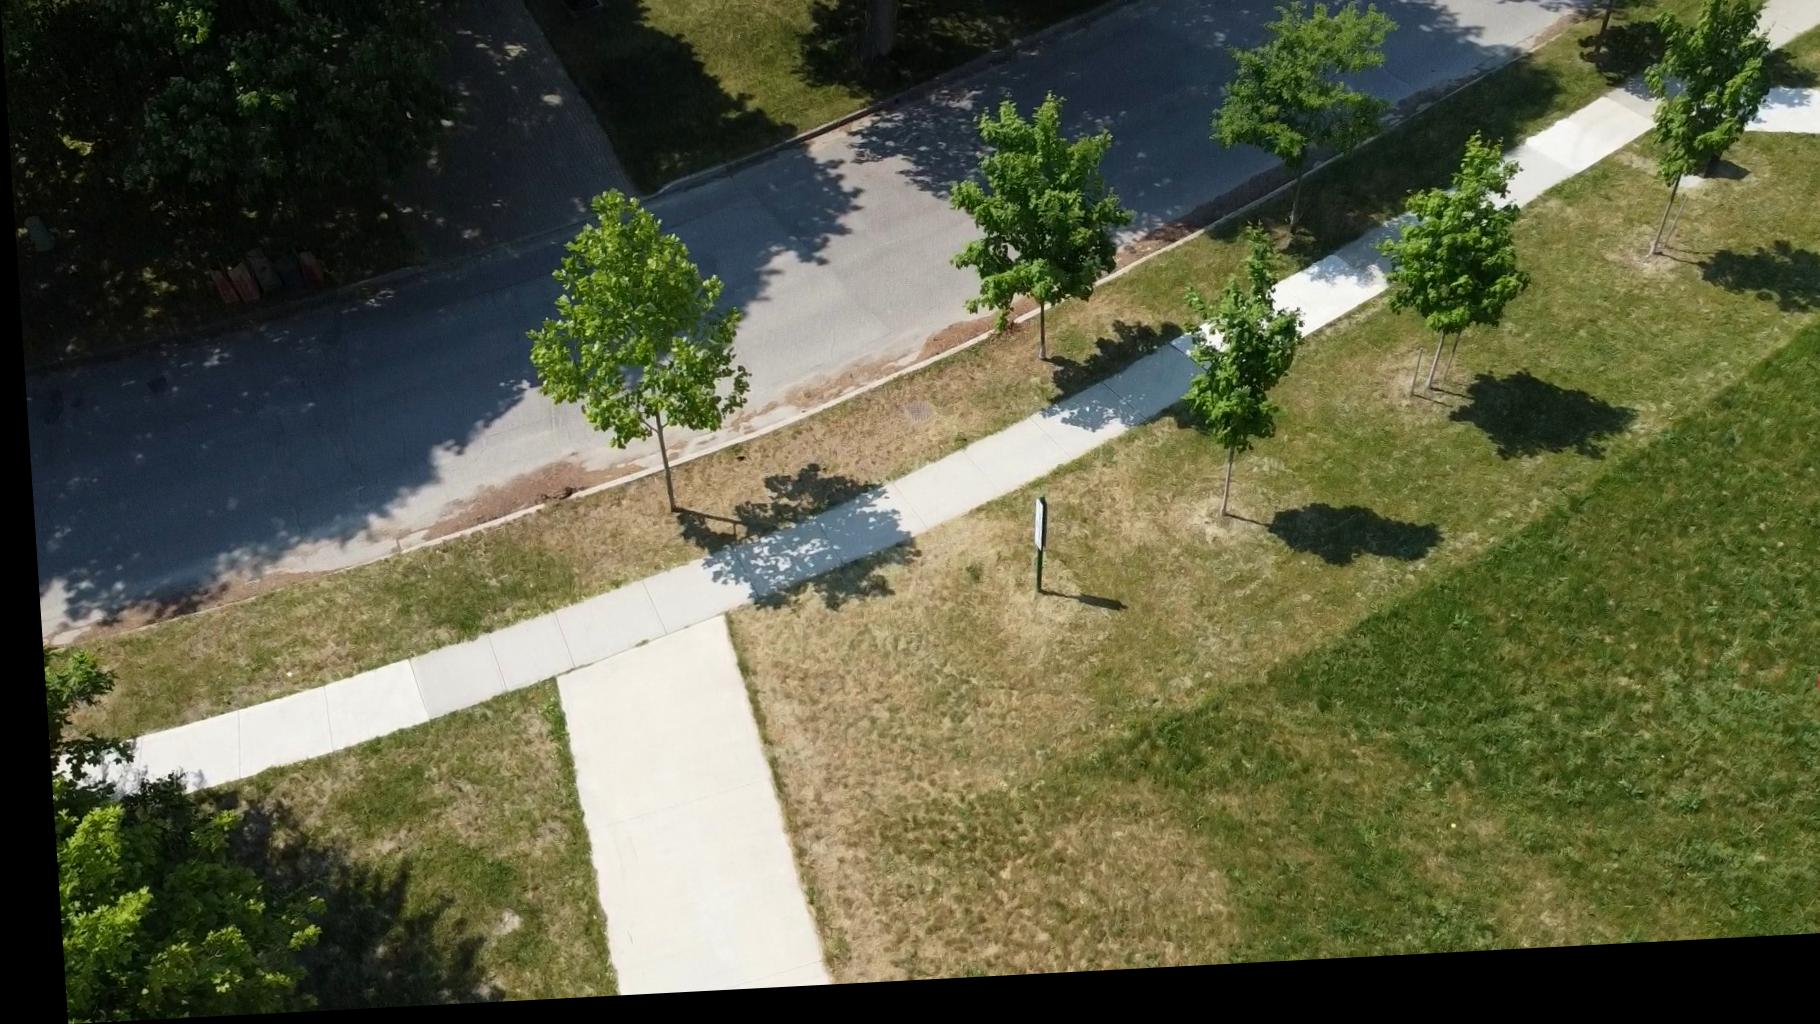Red: (1806, 689, 1820, 731)
